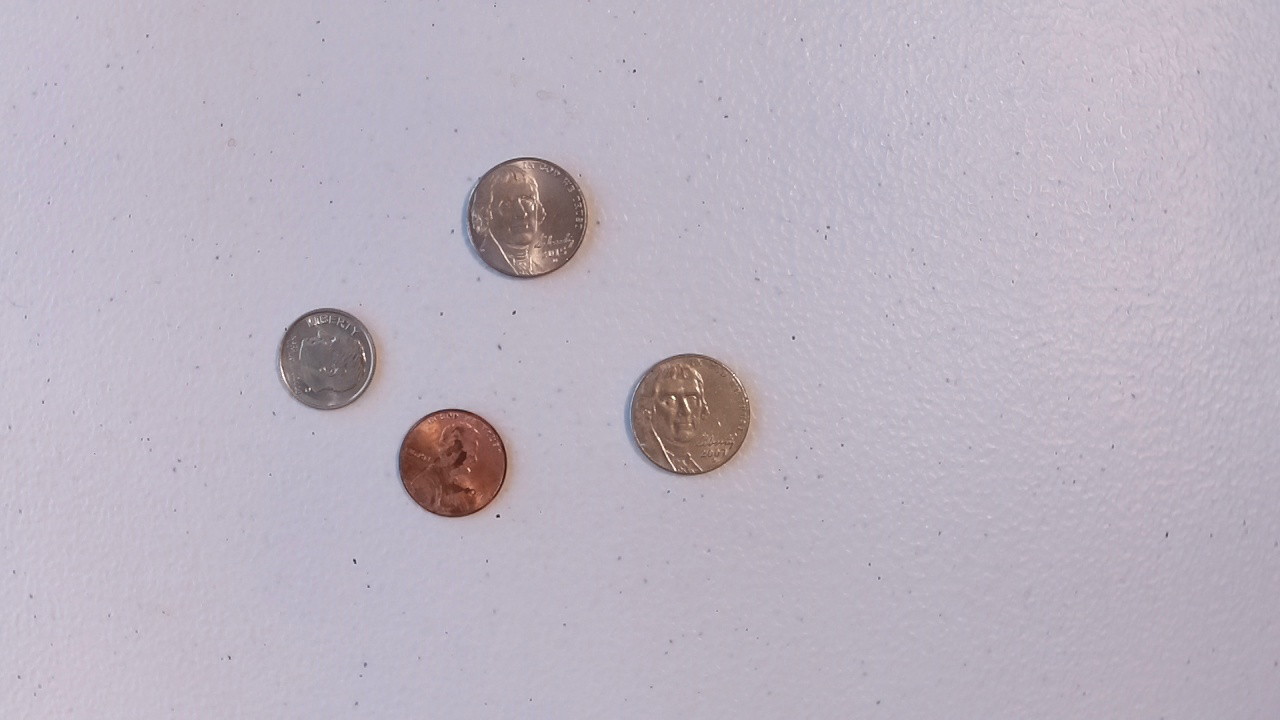dime: (276, 304, 378, 412)
nickel: (456, 152, 596, 284), (618, 352, 758, 478)
penny: (394, 406, 512, 520)
